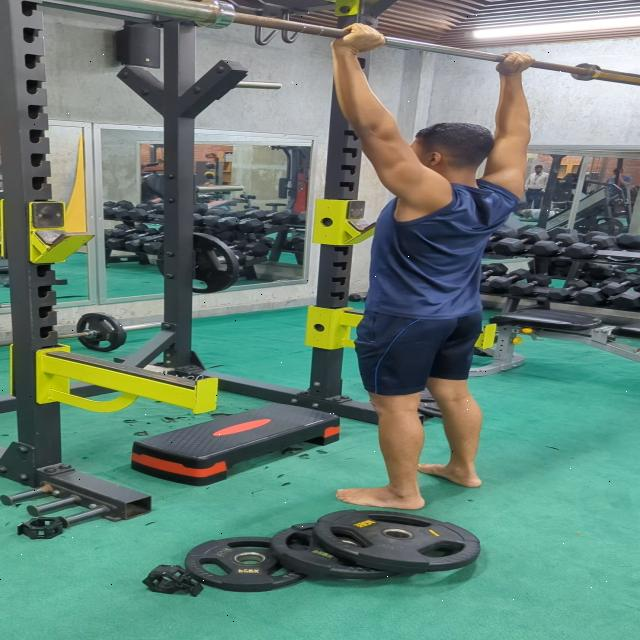Normal_OverheadPress: (264, 17, 548, 513)
